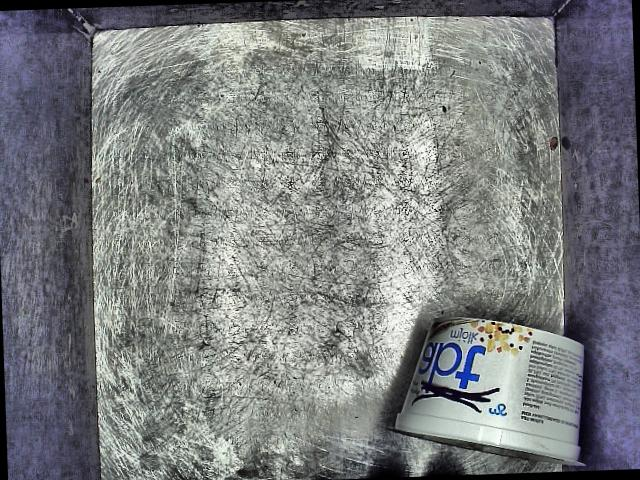Plastic: (376, 303, 594, 478)
